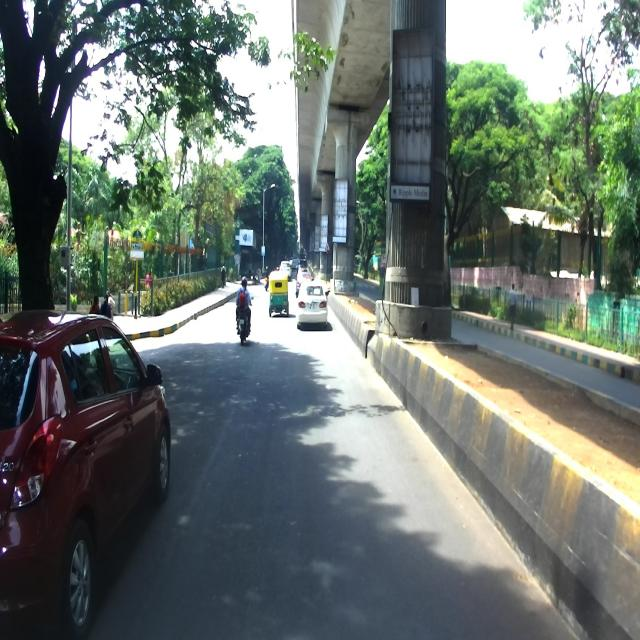car: (0, 310, 171, 640)
